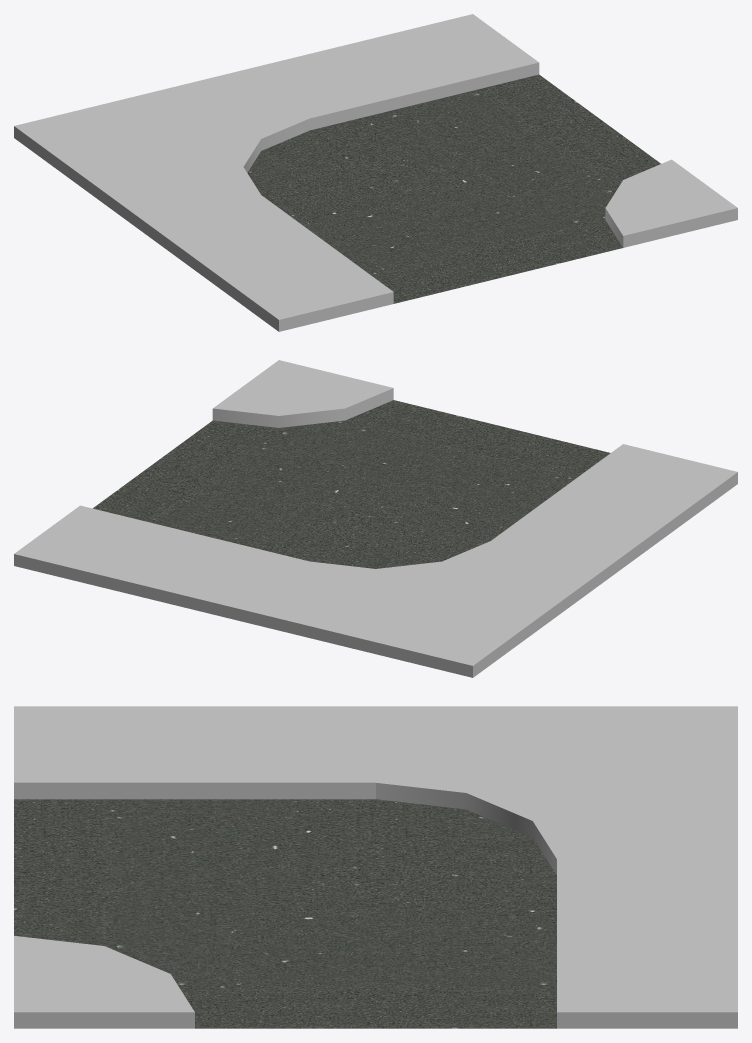
Rendered from roadAsphalt_corner.fbx.
The picture shows the model from 3 angles, top to bottom: view 1: azimuth 30°, elevation 25°; view 2: azimuth 150°, elevation 25°; view 3: azimuth 270°, elevation 25°; orthographic projection. The views are drawn at different scales.
Visible parts, largest first — view 1: roadAsphalt_corner; view 2: roadAsphalt_corner; view 3: roadAsphalt_corner.
Boxes of the visible parts, box(x1,y1,x2,y2) form: roadAsphalt_corner: box(14, 14, 737, 331); roadAsphalt_corner: box(14, 360, 737, 677); roadAsphalt_corner: box(14, 706, 737, 1028).
Bounding box in the file's own units: 20 × 0.5 × 20.
